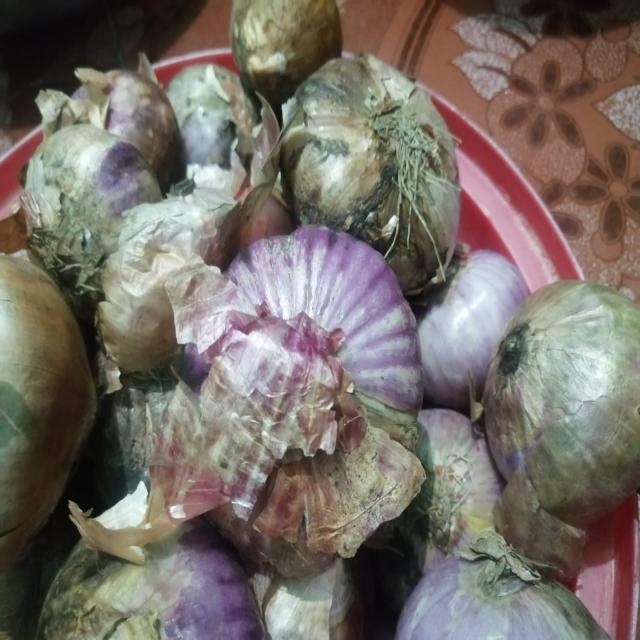rotten: (495, 402, 606, 512), (293, 84, 379, 212), (90, 144, 150, 222)
